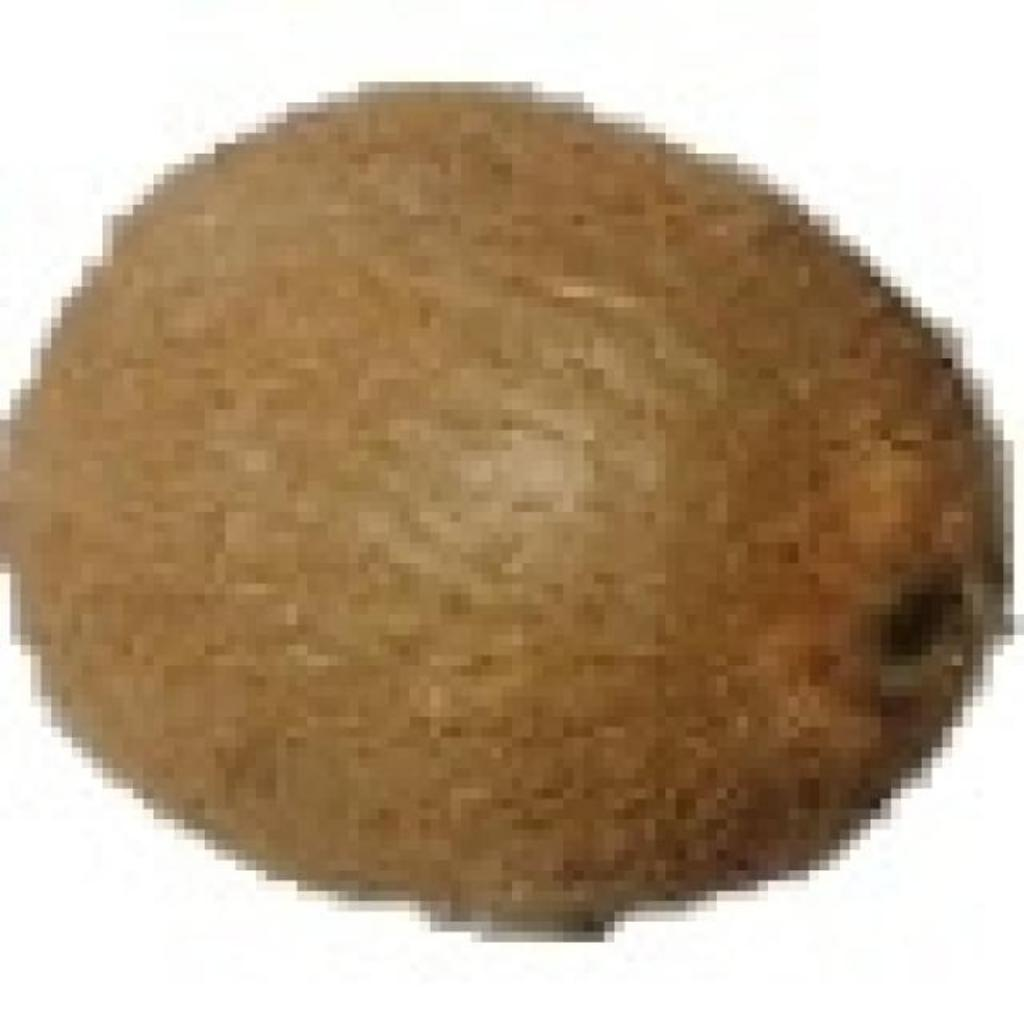kiwi: (0, 72, 983, 911)
